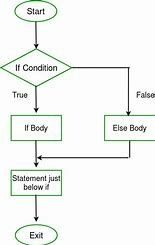arrow: (71, 64, 133, 116), (36, 139, 131, 160), (32, 85, 42, 115), (32, 193, 41, 223), (32, 19, 40, 51), (32, 140, 41, 168)
decision: (1, 48, 73, 88)
process: (10, 168, 63, 197), (10, 114, 64, 142), (103, 114, 155, 142)
terminator: (14, 223, 58, 245), (12, 1, 58, 22)
text: (11, 173, 61, 191), (15, 62, 59, 73), (112, 122, 148, 135), (23, 123, 49, 134), (26, 5, 47, 17), (135, 89, 155, 100), (10, 90, 30, 100), (29, 230, 45, 240)
